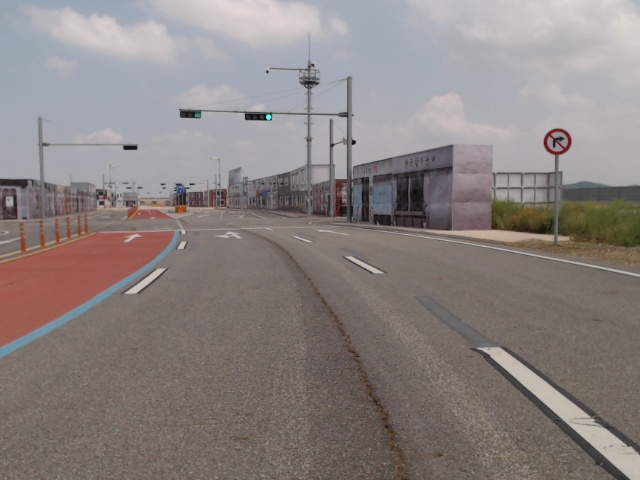straight_green_4: (245, 111, 272, 122)
